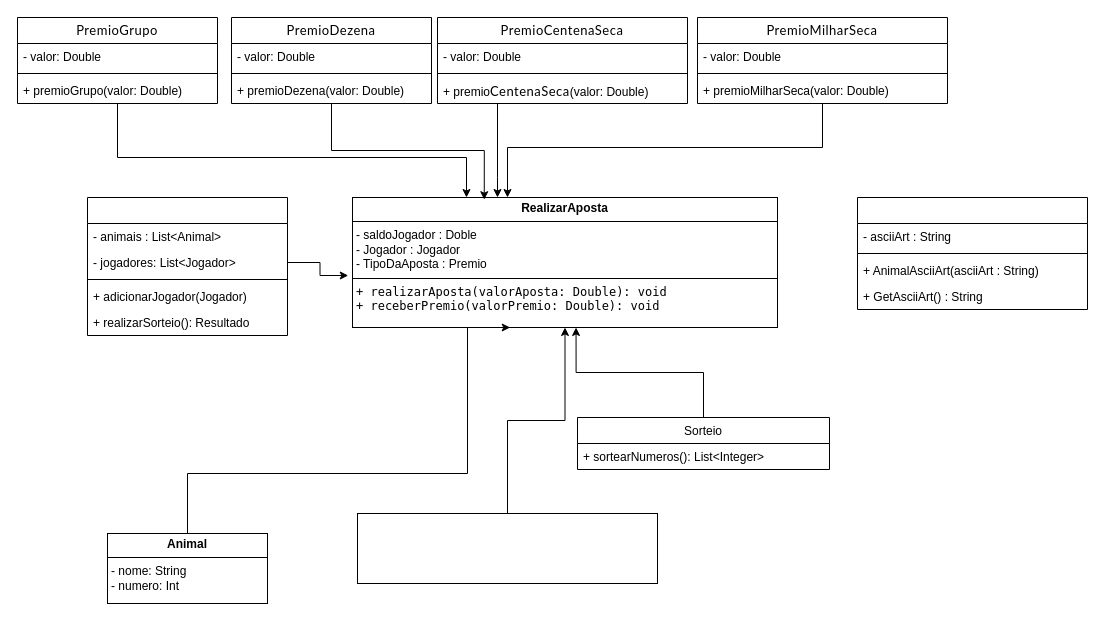
The diagram is 1105 pixels wide and 621 high, and some of its shapes have lost their labels. Each missing label, with the box of its shape:
<<enum>> AnimalAsciiArt: (856, 196, 1088, 310)
Jogador - nome: String - cpf : String: (356, 512, 658, 584)
Jogo: (86, 196, 288, 336)
